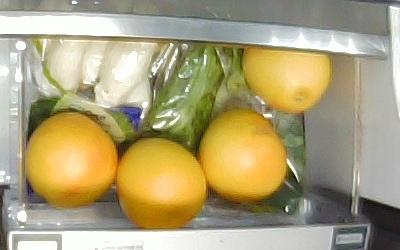grapefruit: (25, 113, 118, 208), (197, 110, 286, 198), (116, 139, 206, 226), (241, 47, 331, 114)
